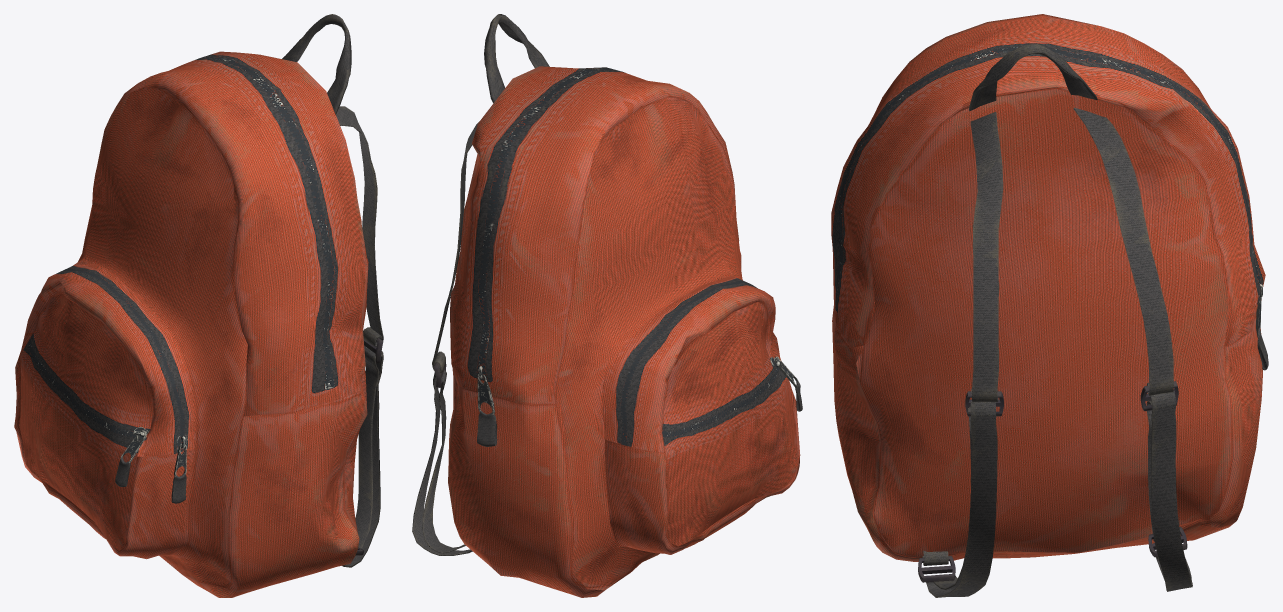
File: backPack.glb
The picture shows the model from 3 angles, left to right: view 1: azimuth 30°, elevation 25°; view 2: azimuth 150°, elevation 25°; view 3: azimuth 270°, elevation 25°; orthographic projection. The views are drawn at different scales.
Parts seen in each view (by area): view 1: SM_Bookbag_001; view 2: SM_Bookbag_001; view 3: SM_Bookbag_001.
Part boxes in pixels (<box>): SM_Bookbag_001: <box>14,14,383,597</box>; SM_Bookbag_001: <box>412,14,802,597</box>; SM_Bookbag_001: <box>831,14,1268,597</box>.
Bounding box in the file's own units: 0.2959 × 0.5046 × 0.354.
Materials: 1 (1 with a texture image).
